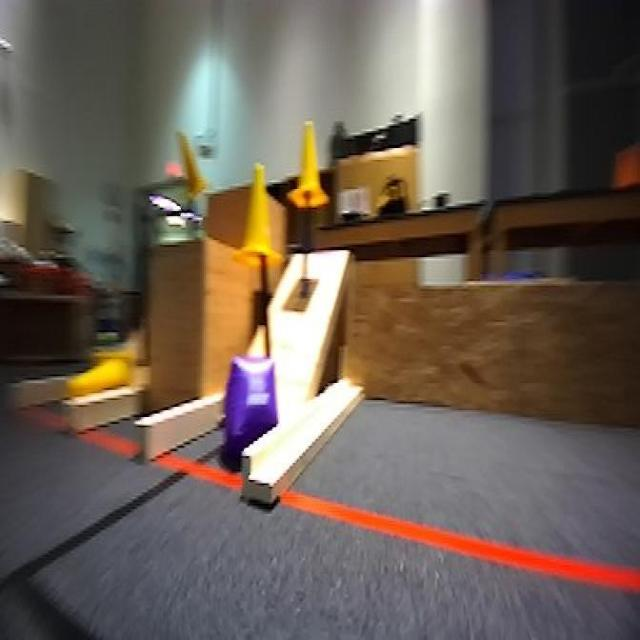frc_cone: (237, 162, 283, 274), (68, 338, 135, 396), (292, 119, 332, 211), (172, 124, 206, 206)
frc_cube: (223, 344, 284, 451)
